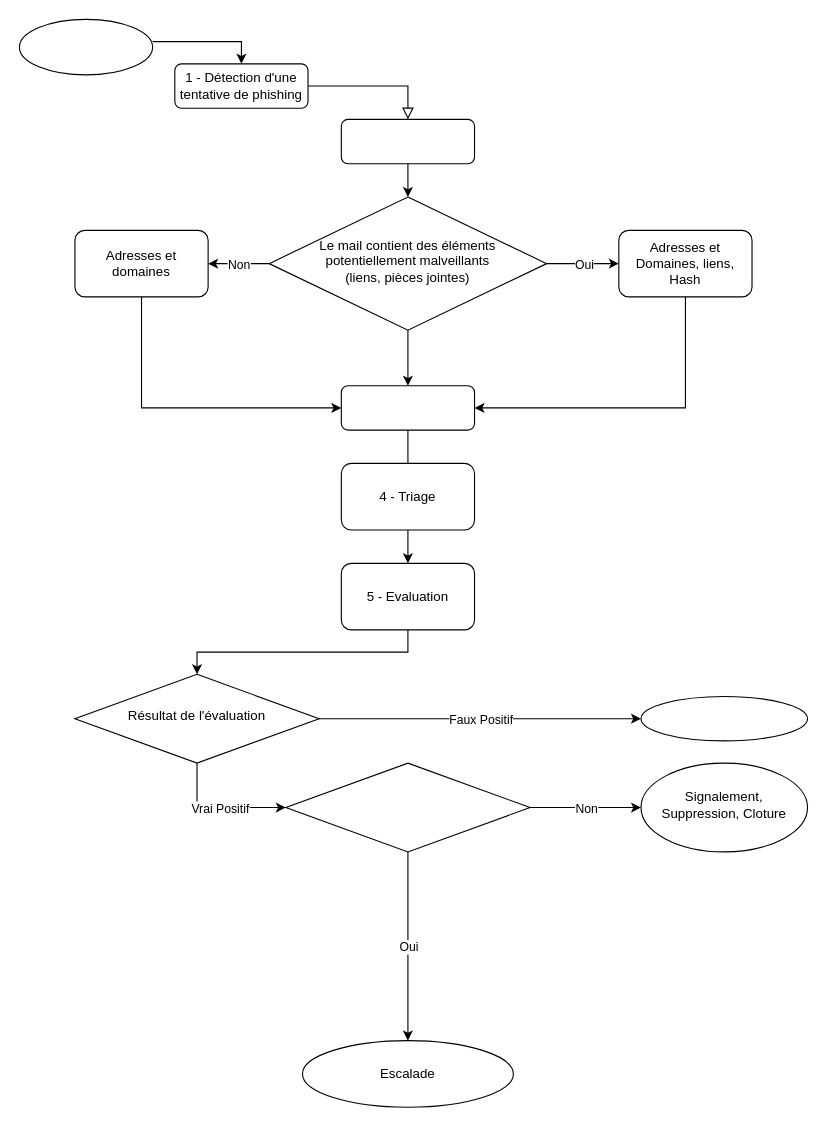
This 827x1127 diagram has some shape labels left out. Each missing label, with the box of its shape:
2 - Collecte de données: (340, 118, 475, 164)
3 - Catégorisation: (340, 385, 475, 430)
Départ: (18, 18, 153, 75)
Elements malveillants exploités: (285, 762, 530, 852)
Exclusion et Cloture: (640, 695, 808, 741)
